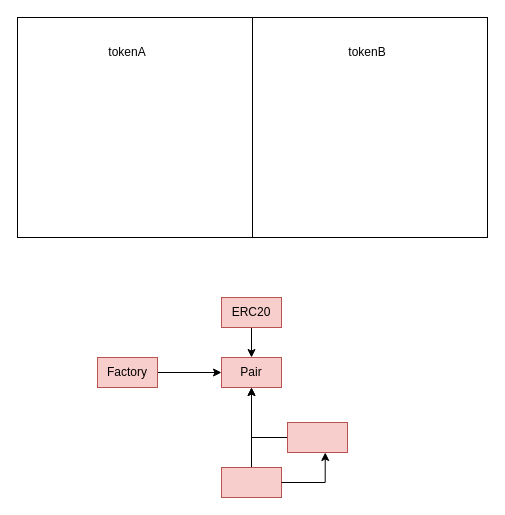
This 505x515 diagram has some shape labels left out. The shapes that lost their labels are listed below. From the top down, each one's box as (x1, y1, x2, y2) in pixels, then its label:
(286, 422, 348, 452): library
(220, 466, 282, 498): Router
